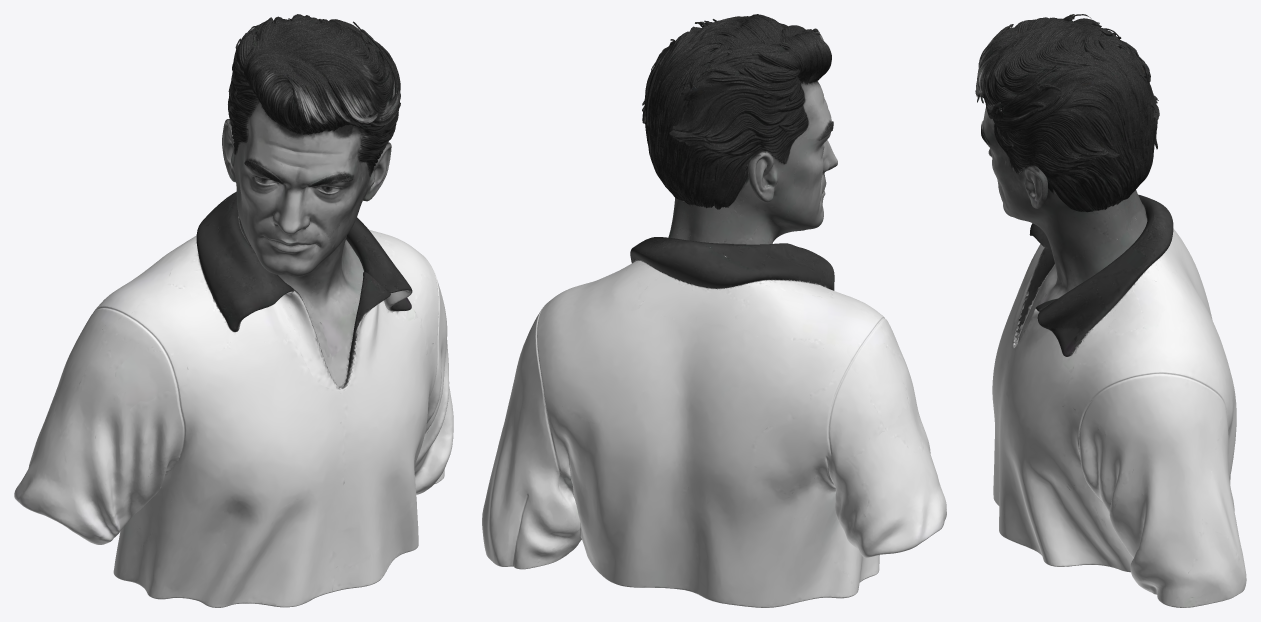
The picture shows the model from 3 angles, left to right: view 1: azimuth 30°, elevation 25°; view 2: azimuth 150°, elevation 25°; view 3: azimuth 270°, elevation 25°; orthographic projection. The views are drawn at different scales.
Visible parts, largest first — view 1: mesh_0; view 2: mesh_0; view 3: mesh_0.
Boxes of the visible parts, box(x1,y1,x2,y2) form: mesh_0: box(14, 14, 453, 607); mesh_0: box(482, 14, 946, 607); mesh_0: box(975, 14, 1246, 607).
Bounding box in the file's own units: 1.65 × 1.9 × 0.9581.
Materials: 1 (1 with a texture image).
